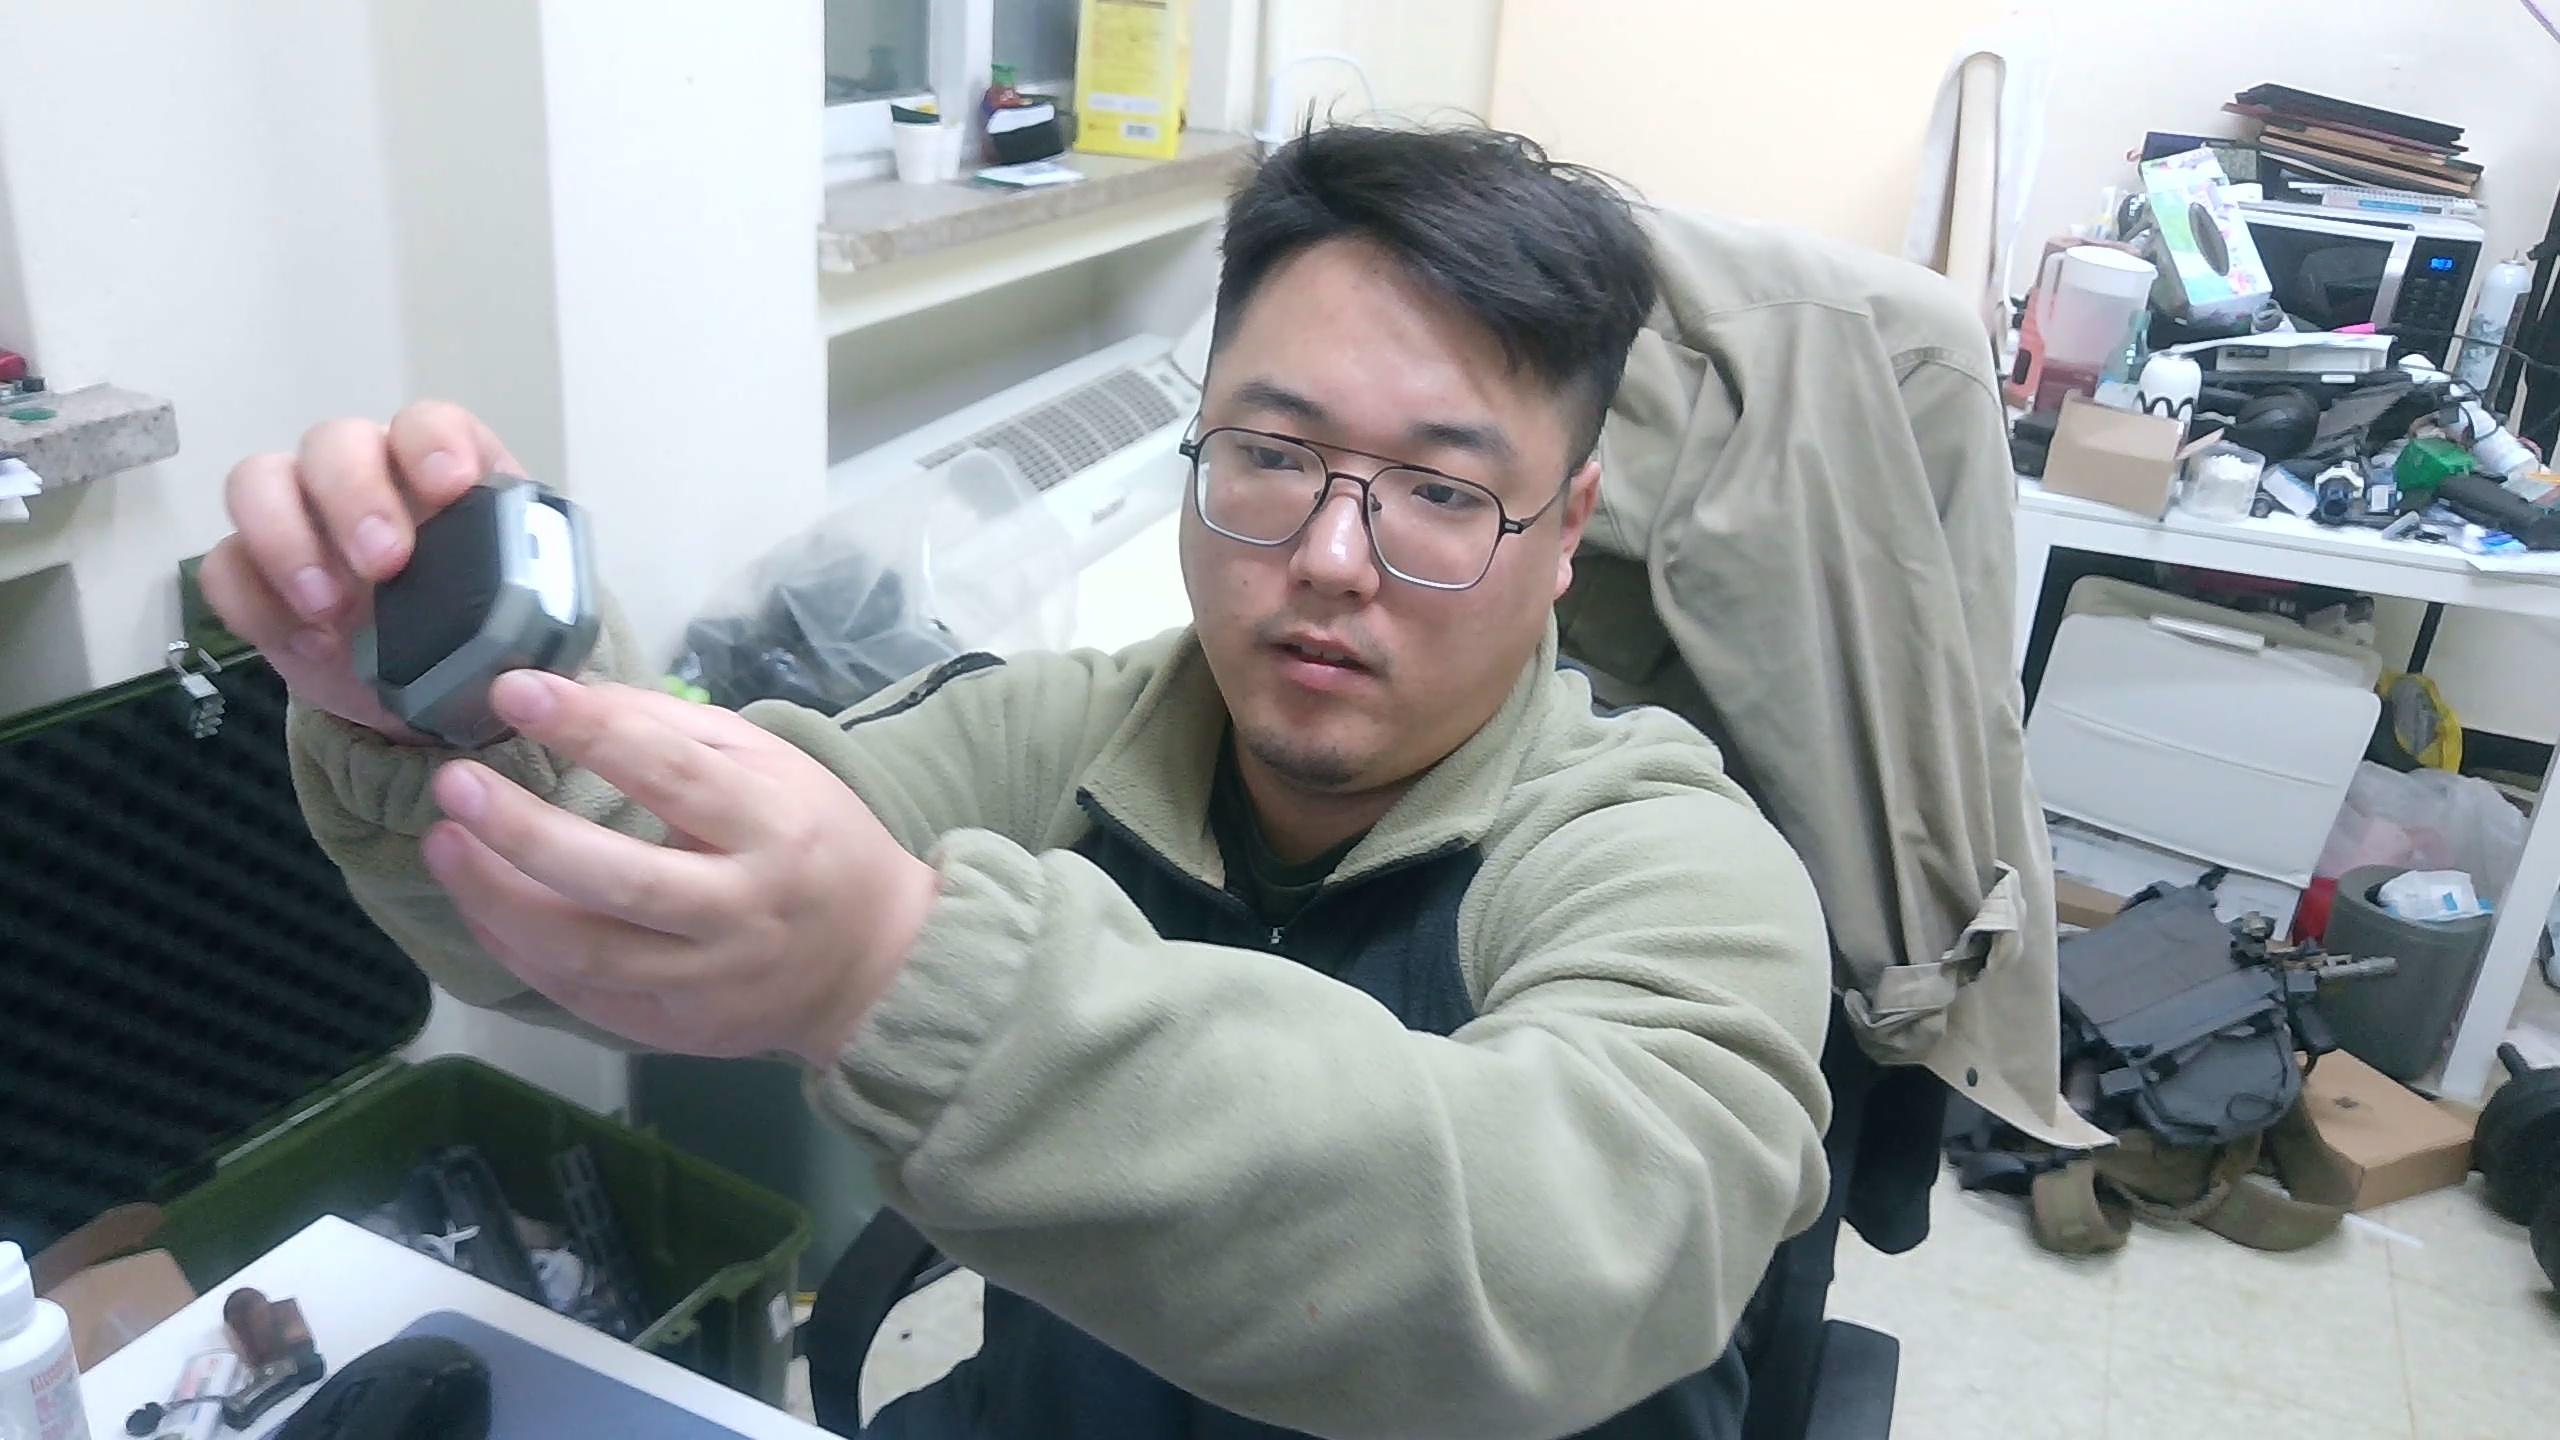blue_pliers: (357, 469, 605, 753)
